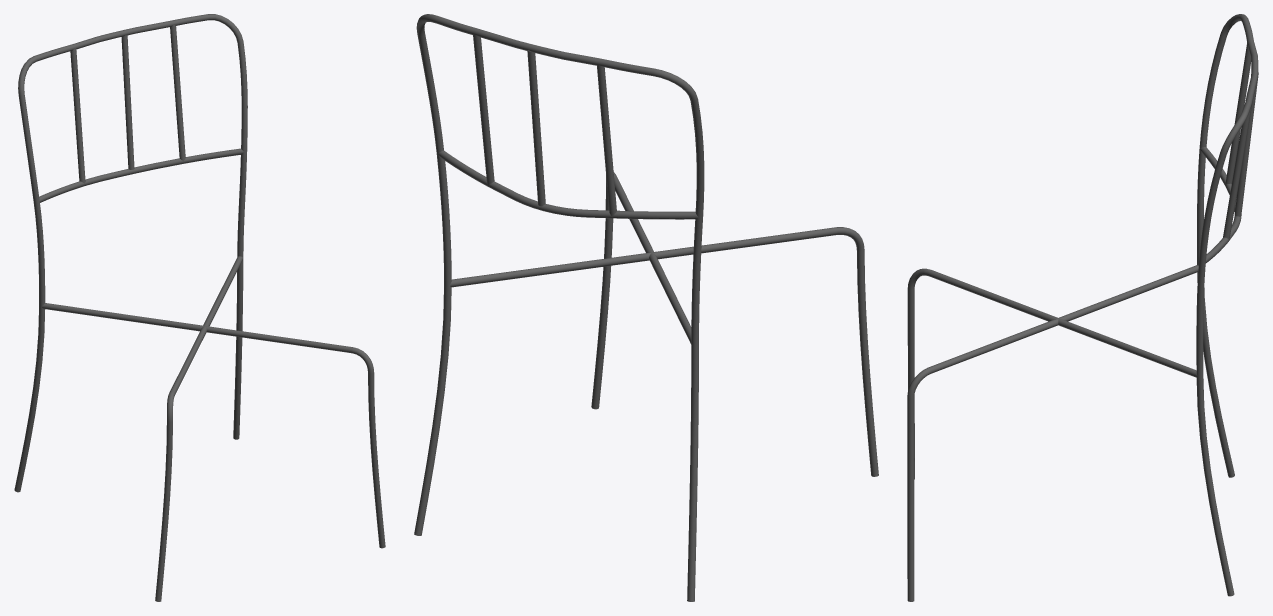
Rendered from RoboTHOR_chair_antnas_robothor_chair_antnas_0.obj.
The picture shows the model from 3 angles, left to right: view 1: azimuth 30°, elevation 25°; view 2: azimuth 150°, elevation 25°; view 3: azimuth 270°, elevation 25°; orthographic projection. The views are drawn at different scales.
Size of the model in its own units: 0.4591 by 0.8207 by 0.548.
Materials: 1 (1 with a texture image).
